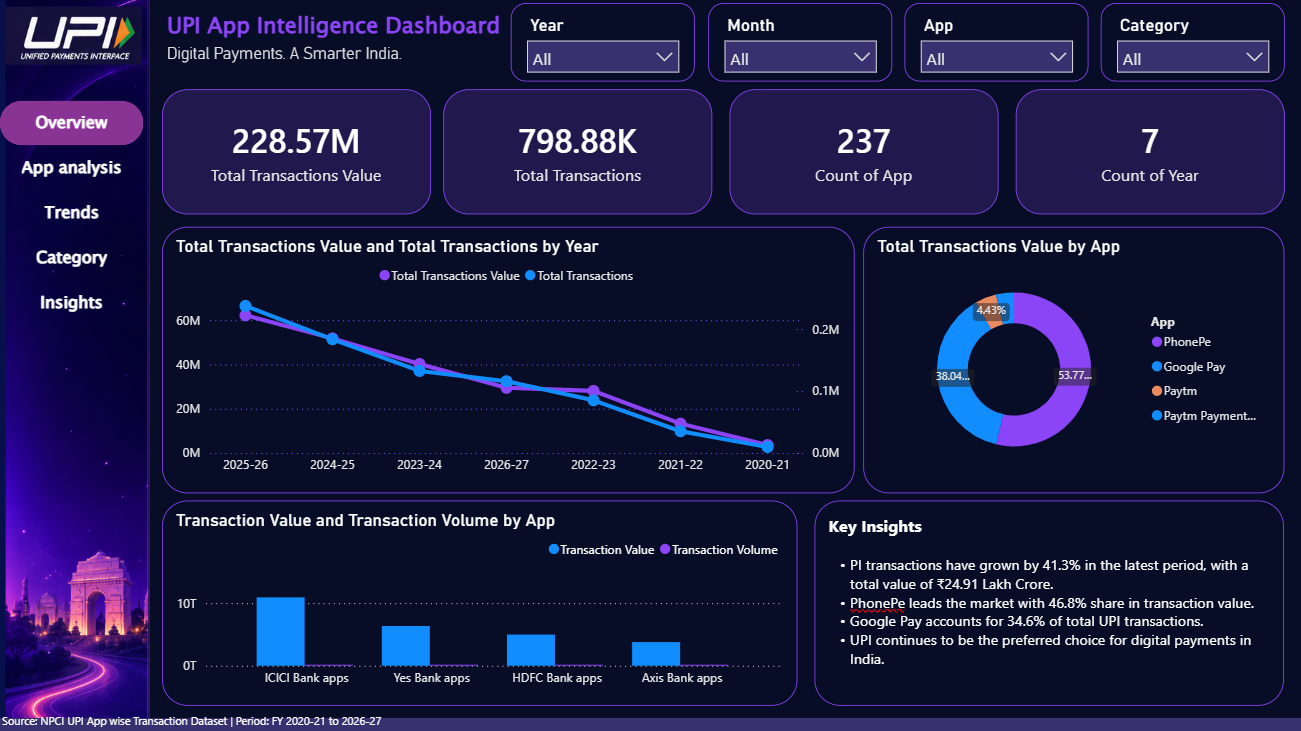

This screenshot's page, from the dashboard's own definition file:
{"tool":"powerbi","page":{"name":"Overview","canvas":[1280,720],"ordinal":0},"visuals":[{"type":"shape","box":[0,0,1280.3,720.4],"z":0},{"type":"cardVisual","fields":{"Data":["npci-upi-apps-arranged.Total Transactions (Crore)"]},"box":[161.9,89.2,263,122.1],"z":0,"group":"g1"},{"type":"shape","box":[0,0,149.6,720.4],"z":1000},{"type":"cardVisual","fields":{"Data":["npci-upi-apps-arranged.Total Transactions - volume (Million)"]},"box":[437.4,89.2,263,122.1],"z":1000,"group":"g1"},{"type":"image","box":[1.4,0,155.1,720],"z":2000},{"type":"cardVisual","fields":{"Data":["Count(npci-upi-apps-arranged.App)"]},"box":[717,89.2,263,122.1],"z":2000,"group":"g1"},{"type":"image","box":[6.9,1.4,134.5,71.4],"z":3000},{"type":"cardVisual","fields":{"Data":["Count(npci-upi-apps-arranged.Year)"]},"box":[996.7,89.2,263,122.1],"z":3000,"group":"g1"},{"type":"pageNavigator","box":[2.7,100.2,141.3,222.3],"z":4000},{"type":"group","id":"g1","title":"Group 1","box":[161.9,89.2,1097.8,122.1],"z":5000},{"type":"lineChart","fields":{"Category":["npci-upi-apps-arranged.Year"],"Y":["npci-upi-apps-arranged.Total Transactions Value"],"Y2":["npci-upi-apps-arranged.Total Transactions"]},"box":[161.9,223.7,677.9,260.7],"z":6000},{"type":"donutChart","fields":{"Category":["npci-upi-apps-arranged.App"],"Y":["npci-upi-apps-arranged.Total Transactions Value"]},"box":[848,223.7,411.7,260.7],"z":7000},{"type":"clusteredColumnChart","fields":{"Category":["npci-upi-apps-arranged.App"],"Y":["npci-upi-apps-arranged.Transaction Value","npci-upi-apps-arranged.Transaction Volume"]},"box":[161.7,491.3,621.3,201],"z":8000},{"type":"textbox","box":[799.6,491.3,459.5,201],"z":9000},{"type":"textbox","box":[161.7,6,373.4,66.5],"z":10000},{"type":"group","id":"g2","title":"Group 2","box":[502.2,5.5,757.5,76.8],"z":11000},{"type":"slicer","fields":{"Values":["npci-upi-apps-arranged.Year"]},"box":[502.2,5.5,180.2,76.8],"z":11000,"group":"g2"},{"type":"slicer","fields":{"Values":["npci-upi-apps-arranged.Month"]},"box":[695.5,5.5,180.2,76.8],"z":12000,"group":"g2"},{"type":"shape","box":[0,703.9,1280.3,16.5],"z":12000},{"type":"slicer","fields":{"Values":["npci-upi-apps-arranged.App"]},"box":[887.5,5.5,180.2,76.8],"z":13000,"group":"g2"},{"type":"textbox","box":[0,692.5,502.2,27.4],"z":13000},{"type":"slicer","fields":{"Values":["npci-upi-apps-arranged.Category"]},"box":[1079.4,5.5,180.2,76.8],"z":14000,"group":"g2"}]}

Visuals, with their boxes in screenshot pixels (x1, y1, x2, y2), scaled from the page's 1280x720 canvas onto the 1301x731 screenshot:
shape: BBox(0, 0, 1300, 730)
cardVisual - npci-upi-apps-arranged.Total Transactions (Crore): BBox(165, 91, 432, 215)
shape: BBox(0, 0, 152, 730)
cardVisual - npci-upi-apps-arranged.Total Transactions - volume (Million): BBox(445, 91, 712, 215)
image: BBox(1, 0, 159, 730)
cardVisual - Count(npci-upi-apps-arranged.App): BBox(729, 91, 996, 215)
image: BBox(7, 1, 144, 74)
cardVisual - Count(npci-upi-apps-arranged.Year): BBox(1013, 91, 1280, 215)
pageNavigator: BBox(3, 102, 146, 327)
"Group 1" group: BBox(165, 91, 1280, 215)
lineChart - npci-upi-apps-arranged.Year x npci-upi-apps-arranged.Total Transactions Value: BBox(165, 227, 854, 492)
donutChart - npci-upi-apps-arranged.App x npci-upi-apps-arranged.Total Transactions Value: BBox(862, 227, 1280, 492)
clusteredColumnChart - npci-upi-apps-arranged.App x npci-upi-apps-arranged.Transaction Value: BBox(164, 499, 796, 703)
textbox: BBox(813, 499, 1280, 703)
textbox: BBox(164, 6, 544, 74)
"Group 2" group: BBox(510, 6, 1280, 84)
slicer - npci-upi-apps-arranged.Year: BBox(510, 6, 694, 84)
slicer - npci-upi-apps-arranged.Month: BBox(707, 6, 890, 84)
shape: BBox(0, 715, 1300, 730)
slicer - npci-upi-apps-arranged.App: BBox(902, 6, 1085, 84)
textbox: BBox(0, 703, 510, 730)
slicer - npci-upi-apps-arranged.Category: BBox(1097, 6, 1280, 84)
